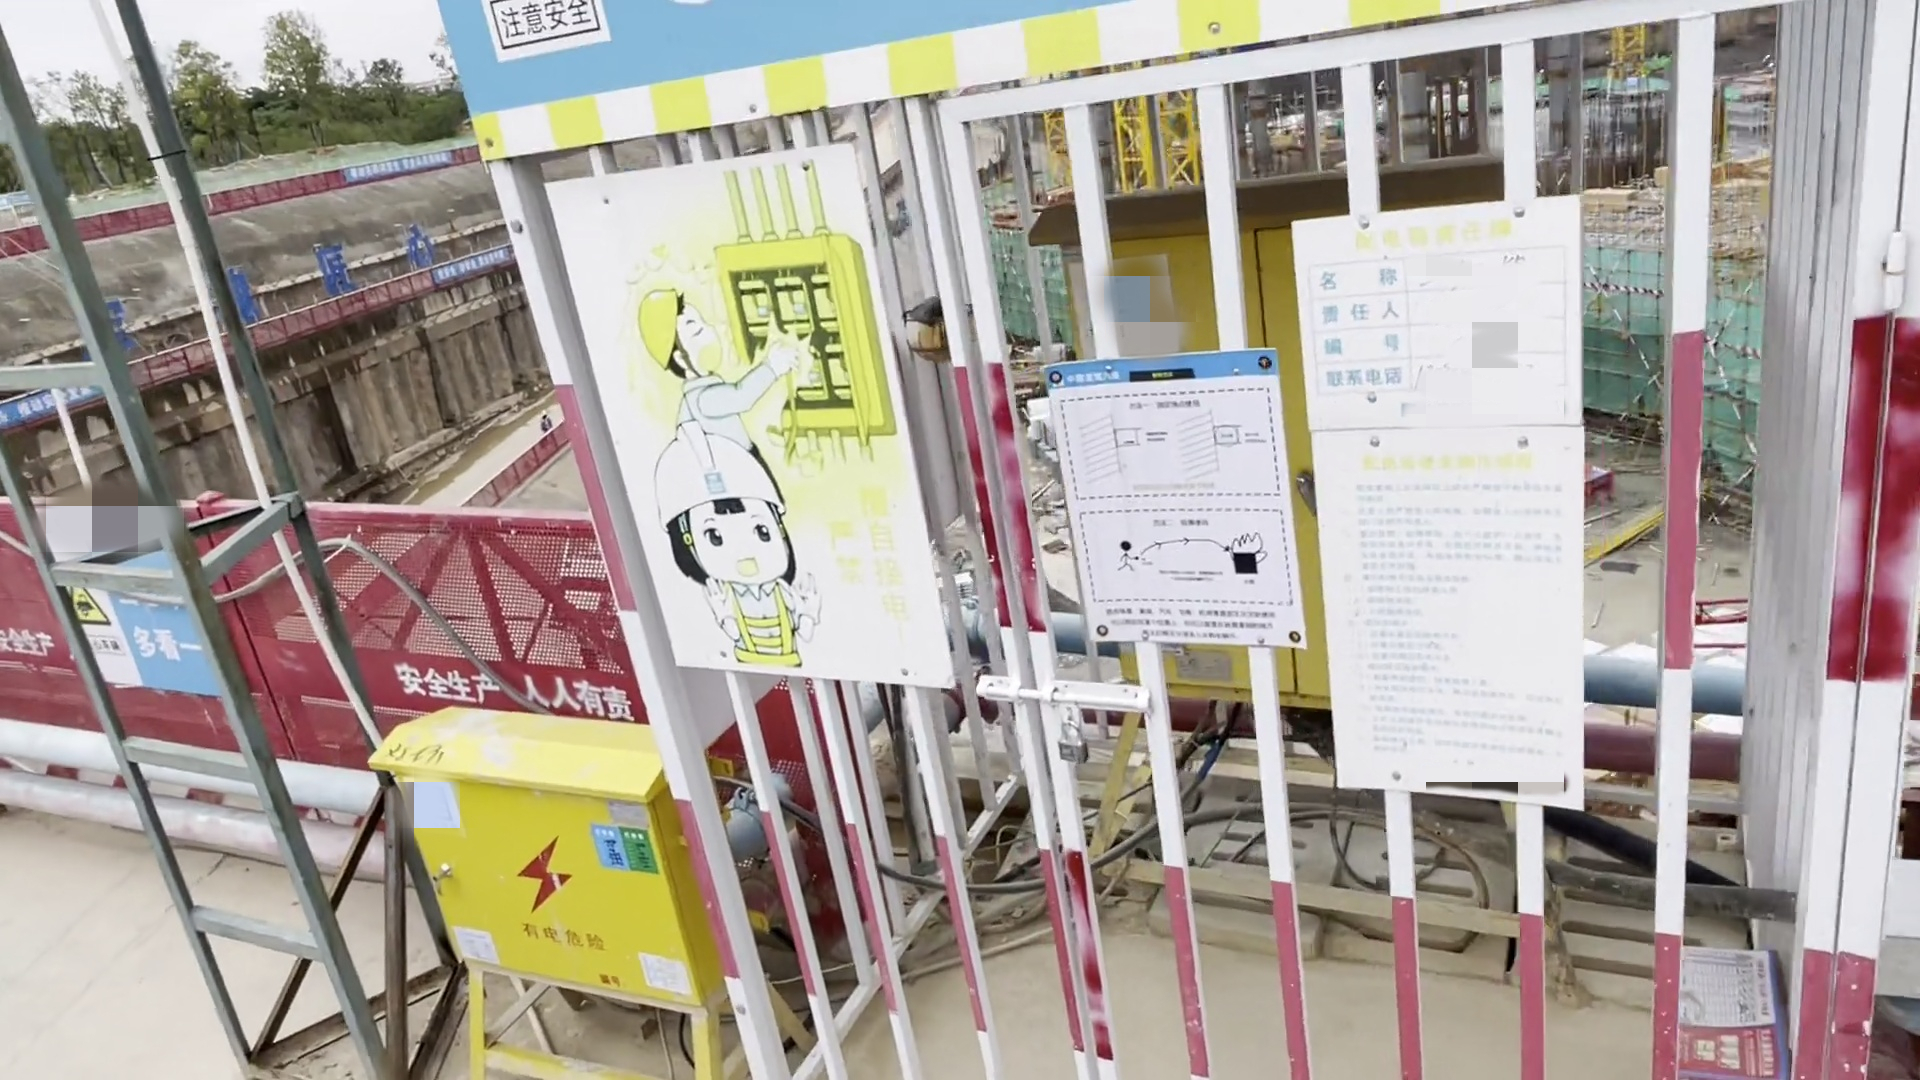ebox: (364, 688, 735, 1080)
fence: (1, 509, 608, 728)
slogan: (516, 164, 960, 694), (1, 502, 228, 712)
